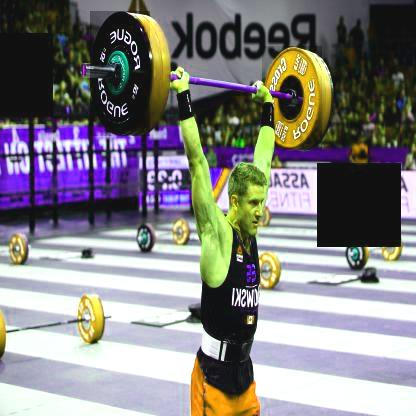barbell: (88, 12, 148, 137), (260, 46, 320, 151)
